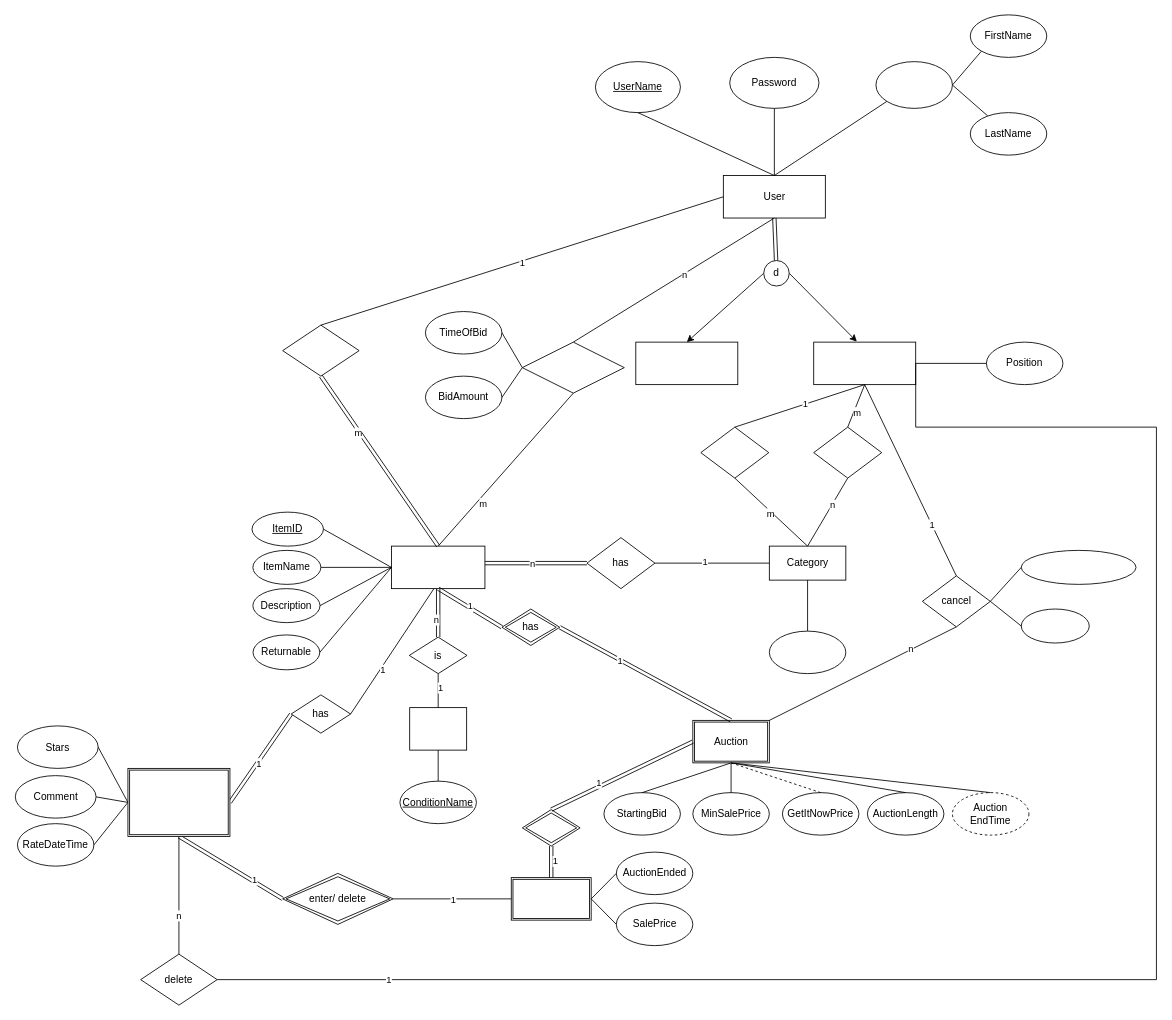
The diagram is 1172 pixels wide and 1020 high, and some of its shapes have lost their labels. The centre of each missing label's shape, as x and y in pixels:
"add" belongs at (734,452).
"AdminUser" belongs at (864,363).
"AuctionResult" belongs at (550,898).
"bid" belongs at (572,367).
"CancellationDateTime" belongs at (1078,567).
"CategoryName" belongs at (807,652).
"change" belongs at (847,452).
"Condition" belongs at (438,728).
"End" belongs at (550,827).
"Item" belongs at (438,567).
"ItemRating" belongs at (178,802).
"list" belongs at (320,350).
"Name" belongs at (913,84).
"Reason" belongs at (1054,625).
"RegularUser" belongs at (686,363).
